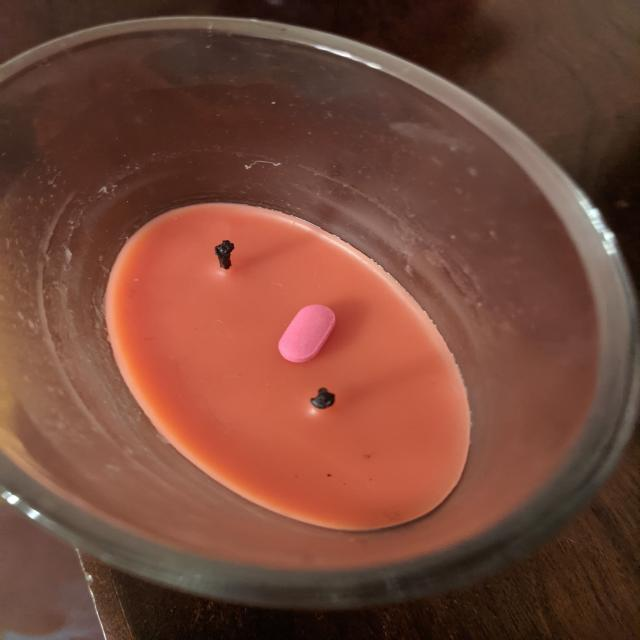non-organic waste: (276, 304, 337, 363)
